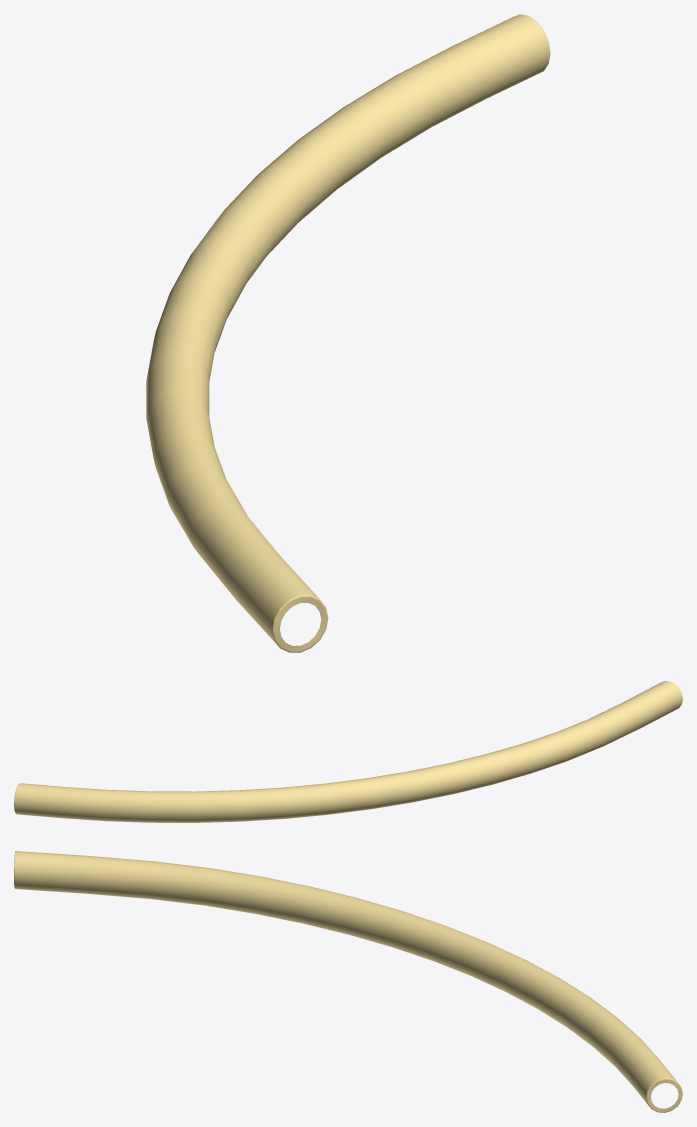
Rendered from BlissBar.glb.
3 renders of one model, top to bottom at view 1: azimuth 30°, elevation 25°; view 2: azimuth 150°, elevation 25°; view 3: azimuth 270°, elevation 25°, orthographic. The views are drawn at different scales.
Visible parts, largest first — view 1: Bliss_Bar; view 2: Bliss_Bar; view 3: Bliss_Bar.
Part boxes in pixels (left/top/right/bottom): Bliss_Bar: left=146, top=14, right=550, bottom=652; Bliss_Bar: left=14, top=681, right=682, bottom=822; Bliss_Bar: left=14, top=851, right=682, bottom=1112.
Size of the model in its own units: 0.0271 by 0.00185 by 0.0325.
